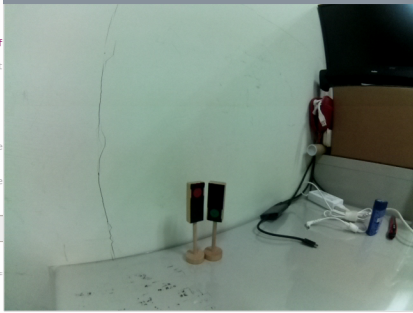Green: (205, 181, 227, 225)
Red: (183, 181, 205, 226)
